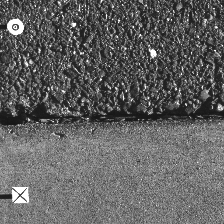circle: (7, 18, 23, 34)
crack: (1, 109, 223, 125)
square: (11, 187, 28, 204)
